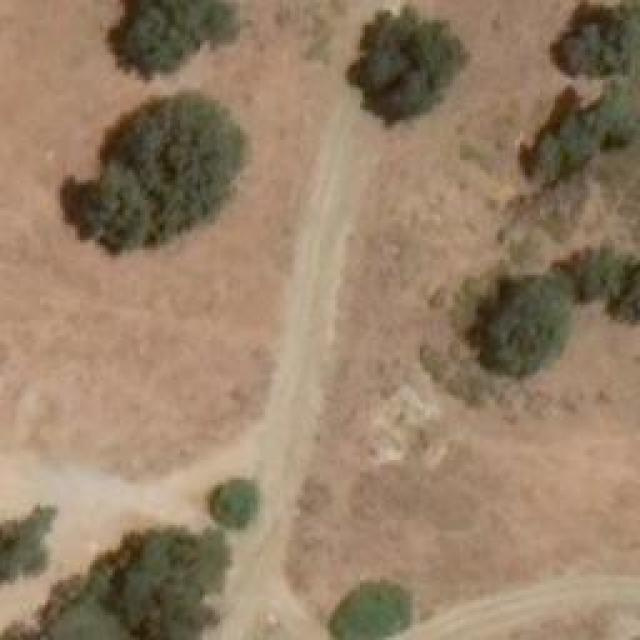Tree: (60, 93, 248, 253), (32, 527, 222, 640), (350, 12, 458, 130), (108, 0, 243, 75), (475, 278, 568, 373), (0, 503, 55, 588), (333, 582, 406, 640), (562, 245, 630, 300), (555, 25, 613, 80), (208, 477, 258, 525), (522, 140, 560, 185)
